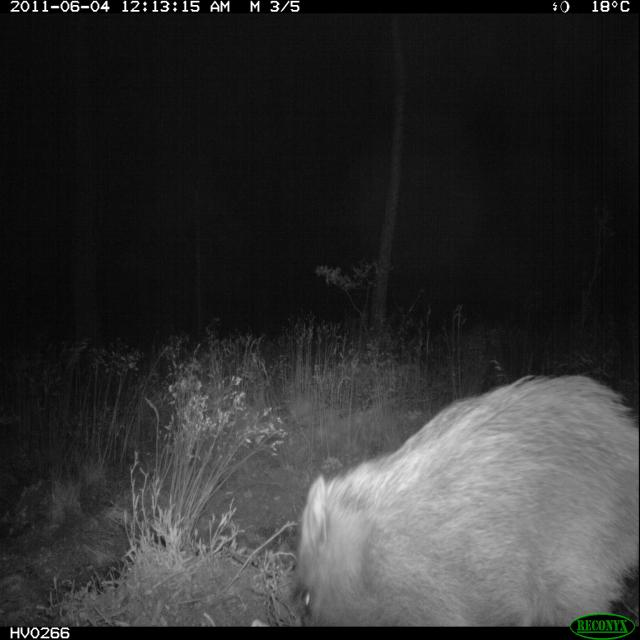boar: (274, 345, 640, 637)
